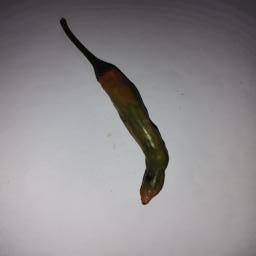Buah Cabai Sehat: (93, 56, 170, 205)
